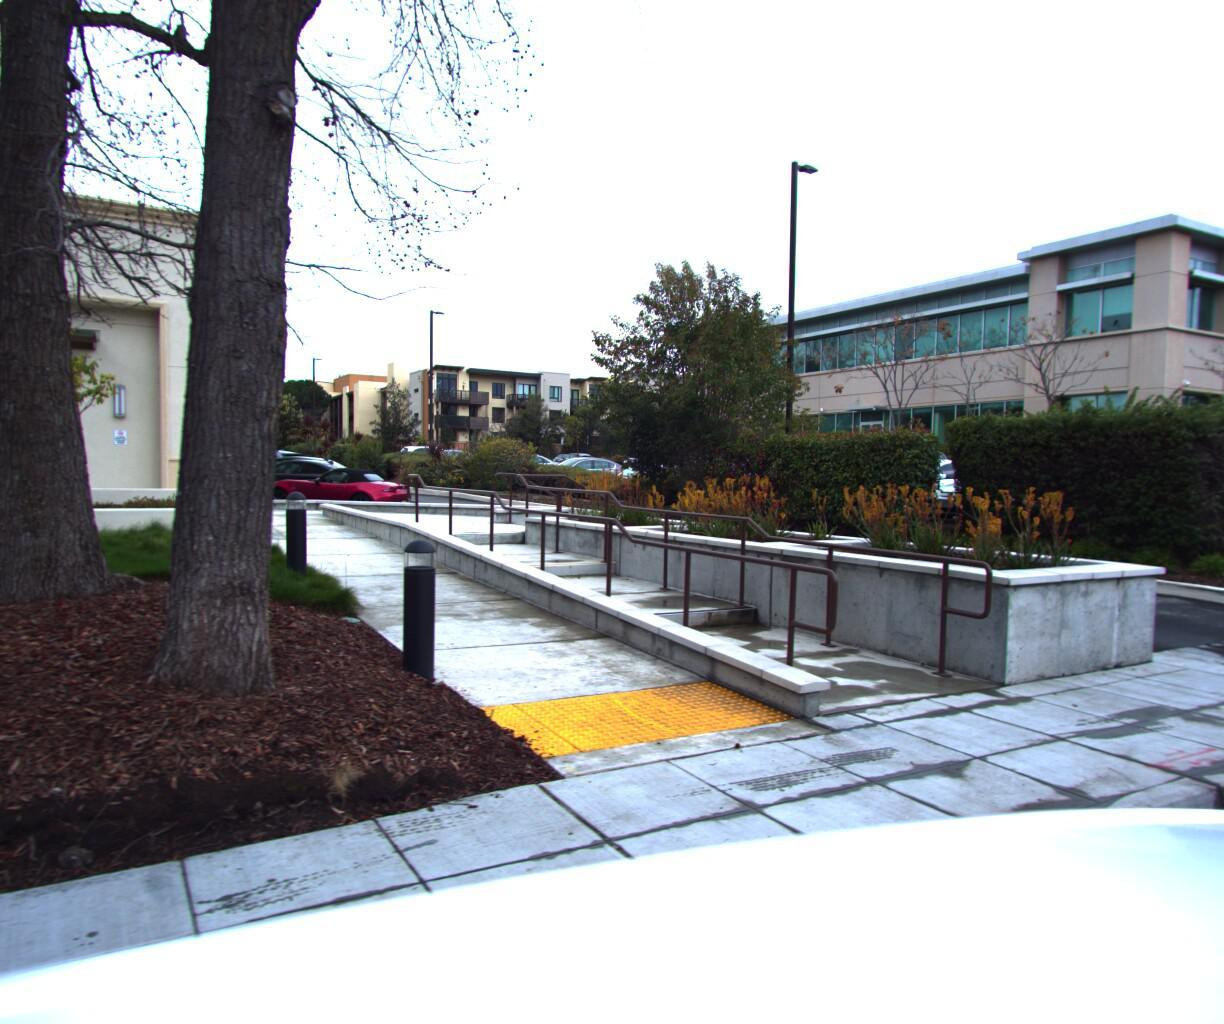car: (915, 462, 1123, 535)
